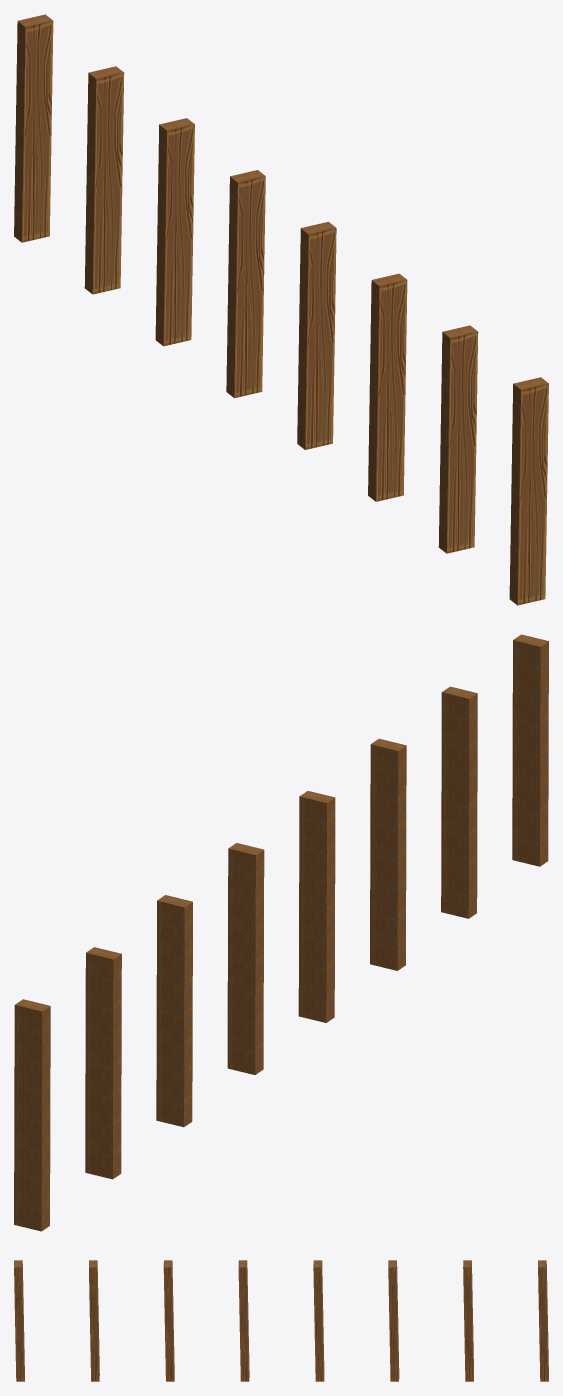
3 renders of one model, top to bottom at view 1: azimuth 30°, elevation 25°; view 2: azimuth 150°, elevation 25°; view 3: azimuth 270°, elevation 25°, orthographic. The views are drawn at different scales.
Parts seen in each view (by area): view 1: Cube.779; view 2: Cube.779; view 3: Cube.779.
Boxes of the visible parts, bbox=[...] form: Cube.779: bbox=[14, 14, 548, 605]; Cube.779: bbox=[14, 634, 548, 1231]; Cube.779: bbox=[14, 1260, 548, 1381].
Bounding box in the file's own units: 20.13 × 143 × 602.
1 material, 1 textured.
